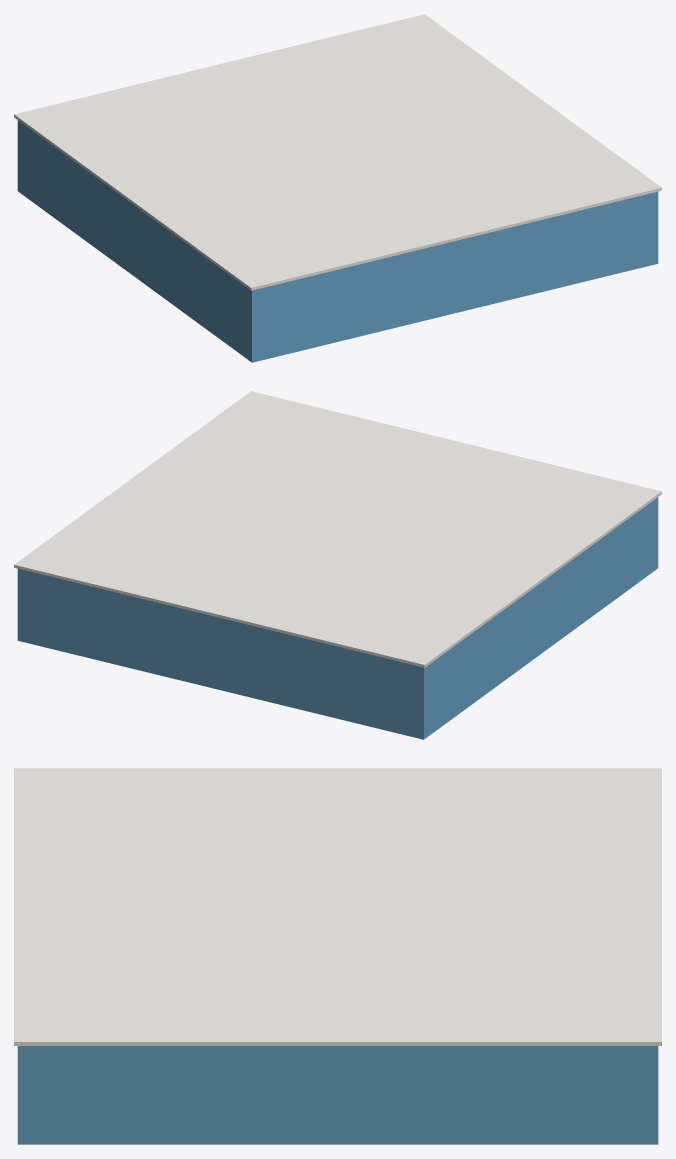
The model's file is watercube.glb.
The picture shows the model from 3 angles, top to bottom: view 1: azimuth 30°, elevation 25°; view 2: azimuth 150°, elevation 25°; view 3: azimuth 270°, elevation 25°; orthographic projection. The views are drawn at different scales.
Parts seen in each view (by area): view 1: watercube; view 2: watercube; view 3: watercube.
Part boxes in pixels (x1,y1,x2,y2): watercube: [14, 14, 661, 362]; watercube: [14, 391, 661, 739]; watercube: [14, 768, 661, 1144].
Bounding box in the file's own units: 179 × 31.8 × 179.
